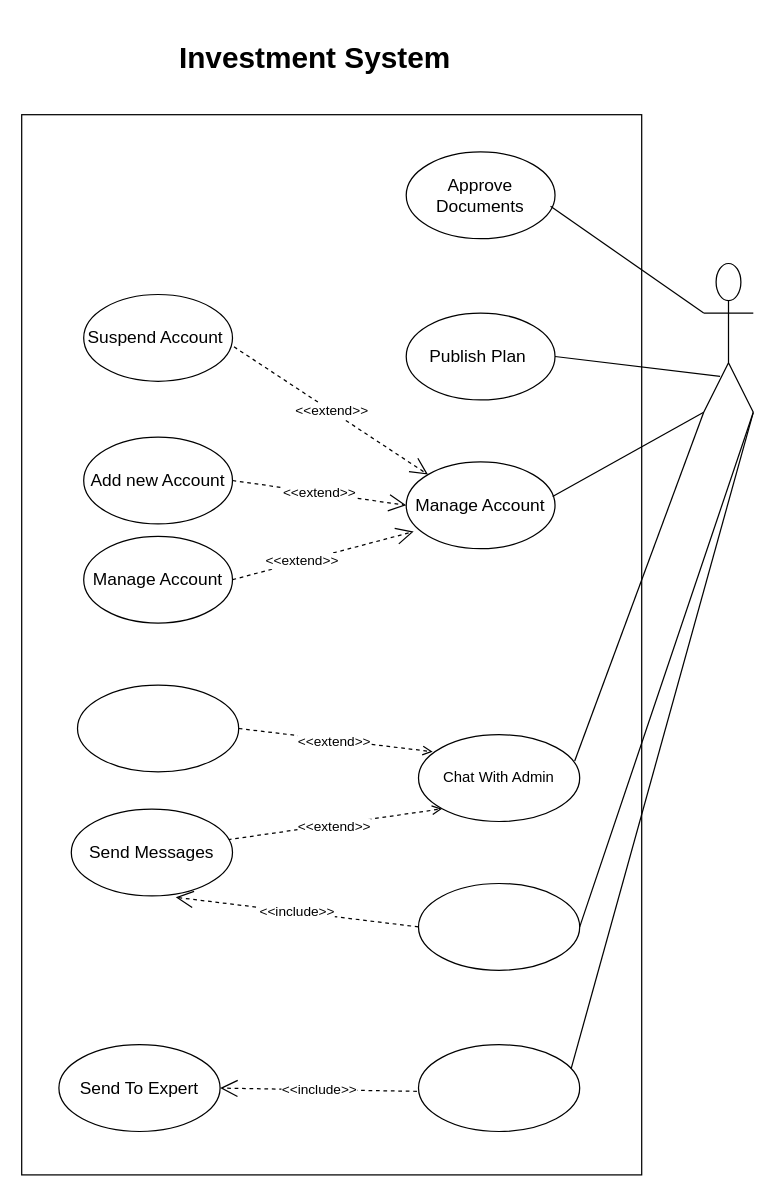
This 776x1197 diagram has some shape labels left out. Here are the shapes that lost their labels. From the top down, the centre of each, then its label:
At pixel 727 337: "Admin".
At pixel 157 728: "Recieve Messages".
At pixel 498 926: "Recieve Report From Expert".
At pixel 498 1087: "Make Reports".
